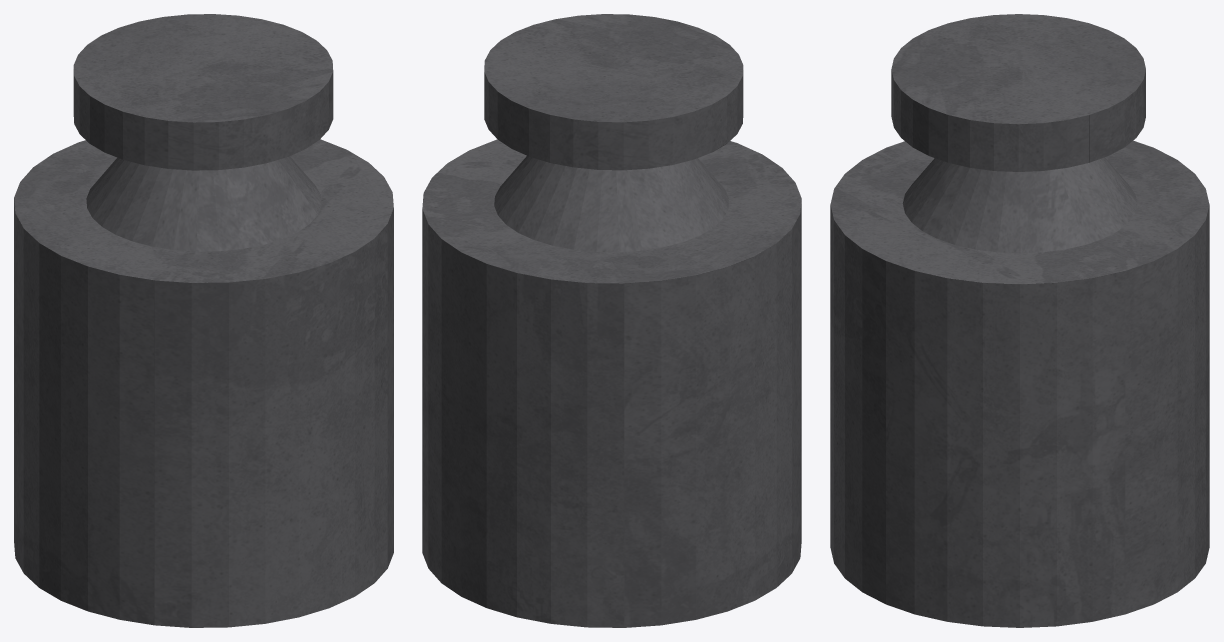
File: girya.fbx
The picture shows the model from 3 angles, left to right: view 1: azimuth 30°, elevation 25°; view 2: azimuth 150°, elevation 25°; view 3: azimuth 270°, elevation 25°; orthographic projection.
Visible parts, largest first — view 1: Cylinder; view 2: Cylinder; view 3: Cylinder.
Part boxes in pixels (x1,y1,x2,y2): Cylinder: [14, 14, 393, 627]; Cylinder: [422, 14, 801, 627]; Cylinder: [830, 14, 1209, 627].
Size of the model in its own units: 200 by 278 by 200.
Materials: 1 (1 with a texture image).
